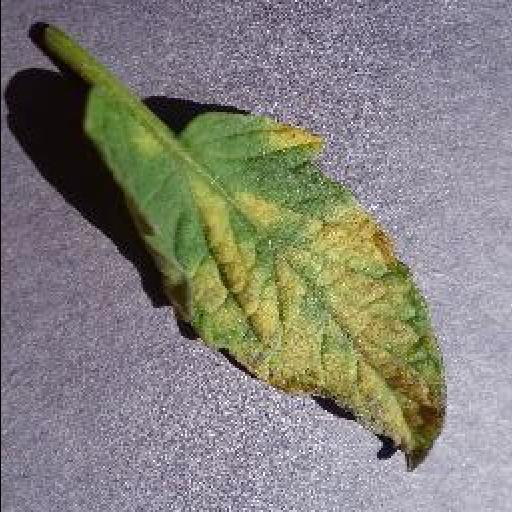disease_tomato: (82, 88, 450, 474)
